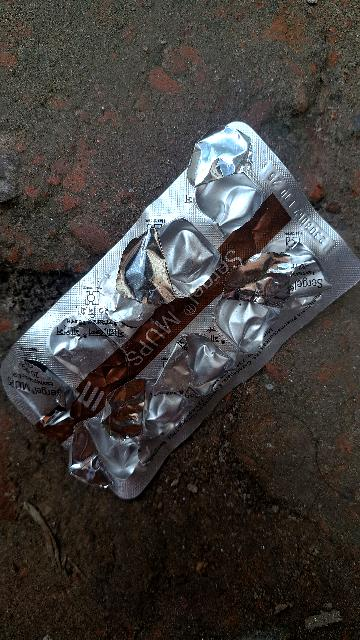medicine: (0, 123, 360, 497)
